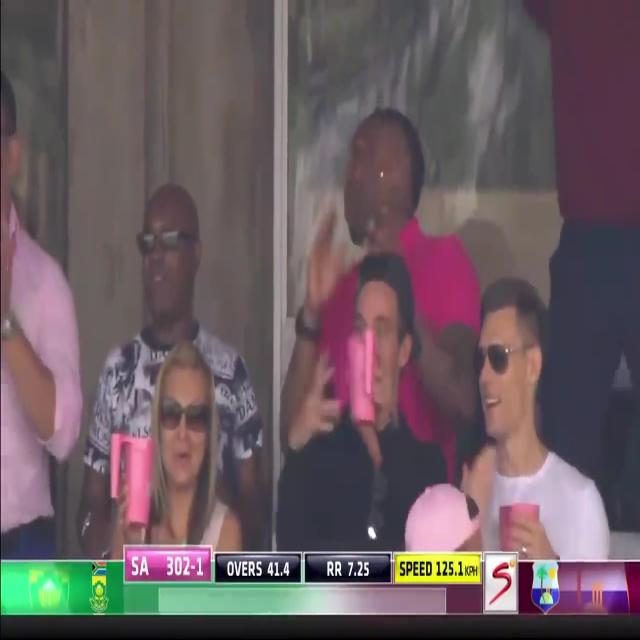Ball: (4, 1, 261, 554)
